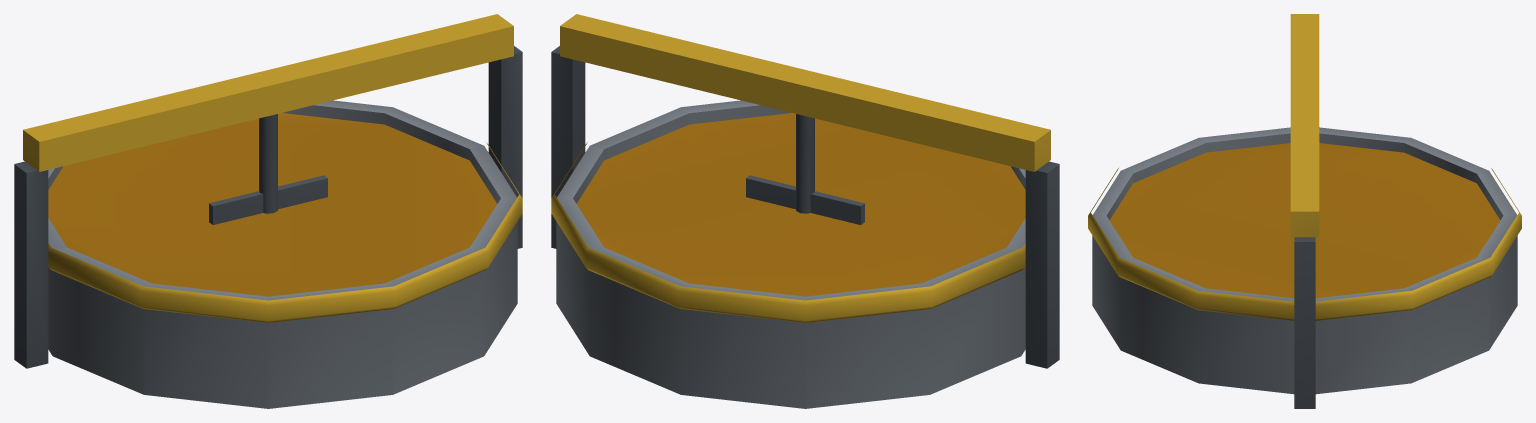
The model's file is prop.honey_vat.lod1.glb.
3 renders of one model, left to right at view 1: azimuth 30°, elevation 25°; view 2: azimuth 150°, elevation 25°; view 3: azimuth 270°, elevation 25°, orthographic. The views are drawn at different scales.
Parts seen in each view (by area): view 1: honey_vat; view 2: honey_vat; view 3: honey_vat.
Boxes of the visible parts, x1=… form: honey_vat: x1=14, y1=14, x2=522, y2=408; honey_vat: x1=551, y1=14, x2=1059, y2=408; honey_vat: x1=1088, y1=14, x2=1521, y2=408.
Size of the model in its own units: 6.9 by 3 by 6.12.
